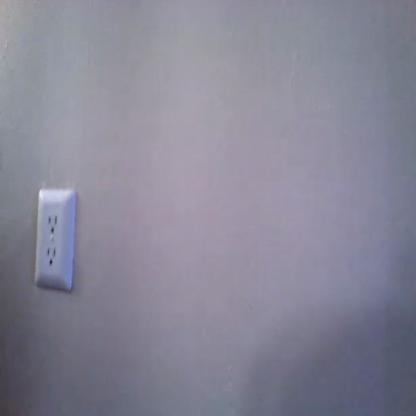OUTLET: (35, 188, 75, 291)
